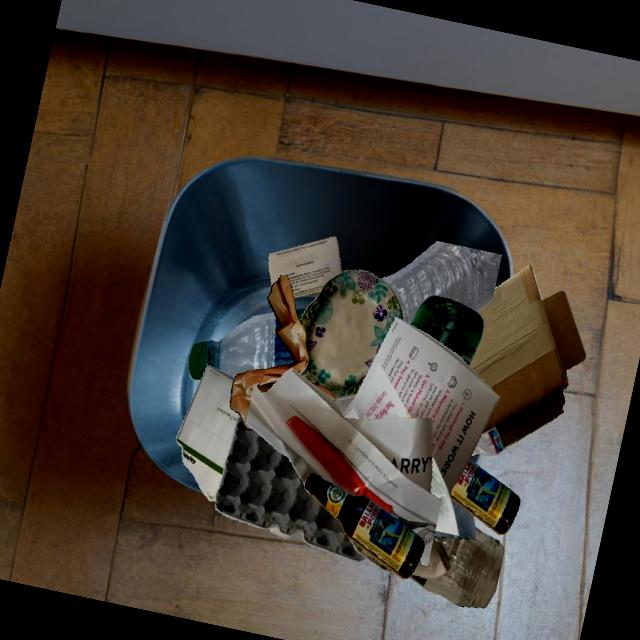cardboard: (214, 416, 365, 562), (469, 264, 585, 447), (300, 269, 402, 400)
glass: (304, 472, 424, 578), (409, 525, 504, 607), (409, 294, 483, 366), (450, 459, 520, 534)
paper: (245, 367, 441, 566), (342, 316, 499, 536), (230, 275, 309, 430), (176, 364, 240, 501), (268, 236, 341, 298), (411, 539, 451, 579), (349, 538, 394, 572)
plastic: (380, 241, 502, 324), (188, 312, 295, 380), (434, 498, 475, 539), (470, 428, 508, 456)
